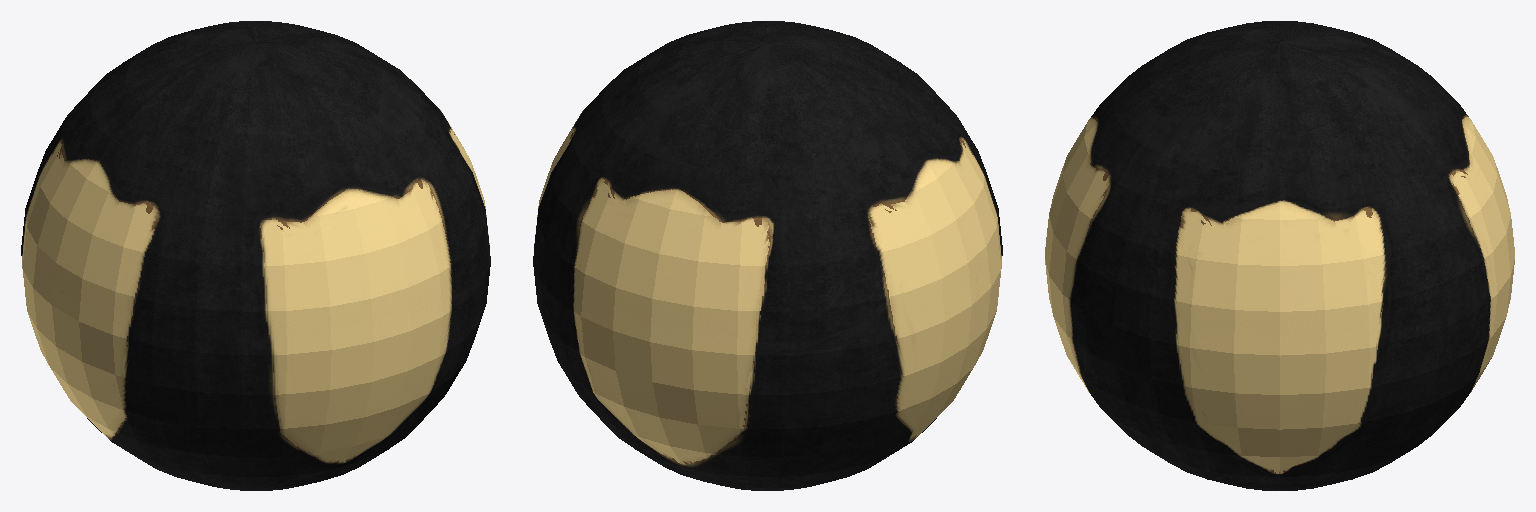
The picture shows the model from 3 angles: view 1: azimuth 30°, elevation 25°; view 2: azimuth 150°, elevation 25°; view 3: azimuth 270°, elevation 25°; orthographic projection.
Visible parts, largest first — view 1: Sphere.001; view 2: Sphere.001; view 3: Sphere.001.
Part boxes in pixels (bbox=[...]): Sphere.001: bbox=[21, 21, 490, 490]; Sphere.001: bbox=[533, 21, 1002, 490]; Sphere.001: bbox=[1045, 21, 1514, 490].
Bounding box in the file's own units: 4.01 × 4.01 × 4.01.
1 materials, 1 textured.